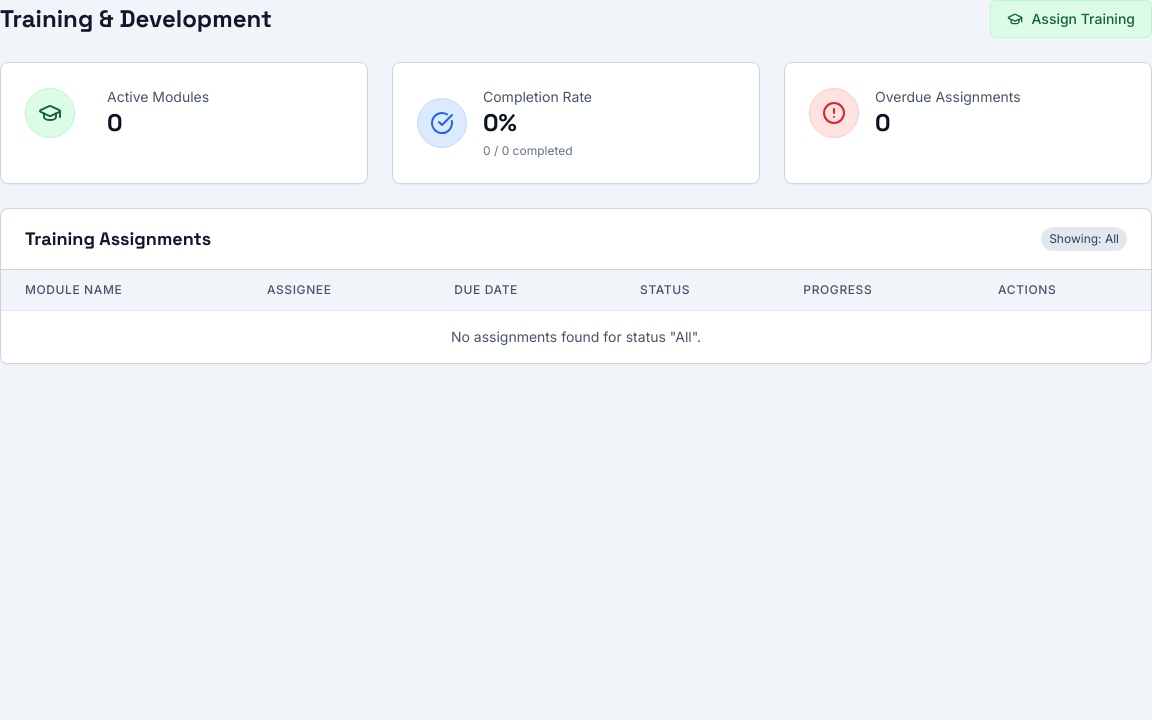
Scenario: Training page › renders and opens assign modal and template modal
Expected: the heading "Training & Development" is shown, [0, 3, 272, 35]
What coordinates should you click on to do the following:
click the button "Assign Training"
I would click on:
 (1071, 19)
Its box is [990, 0, 1151, 38].
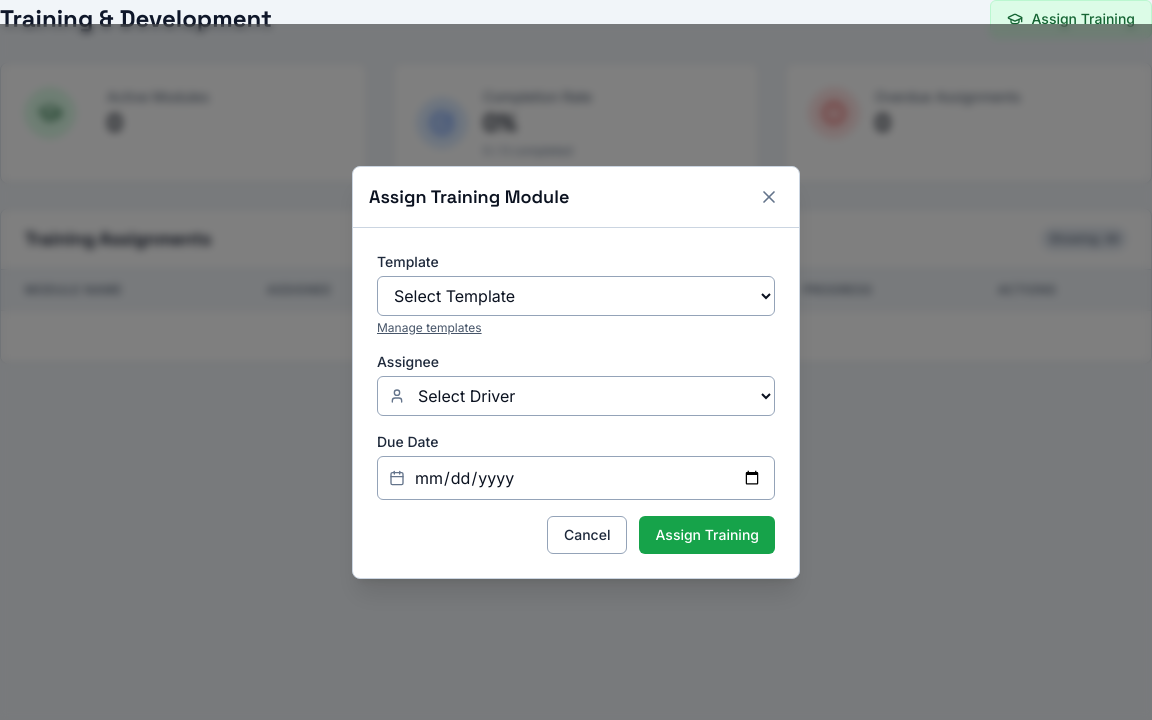
Expected: the heading "Assign Training Module" is shown, [369, 182, 569, 210]
Expected: the button "Manage templates" is shown
What coordinates should you click on to do the following:
click the button "Manage templates"
I would click on:
 (429, 328)
Its box is [377, 320, 482, 336].
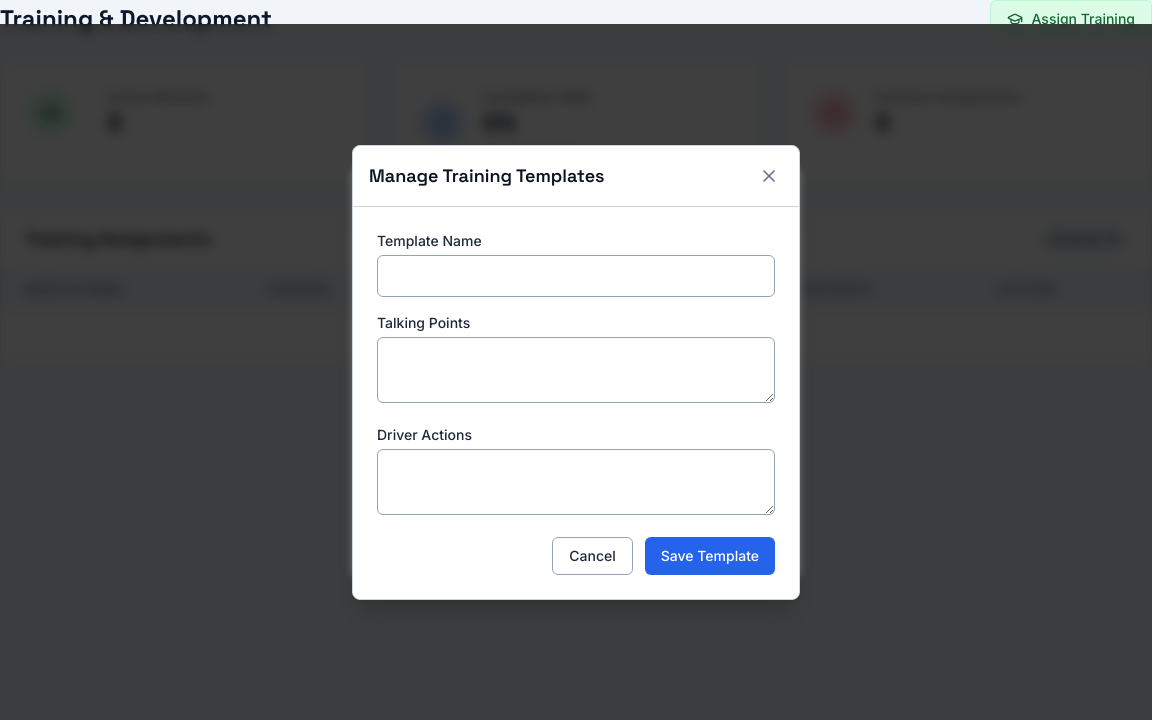
Expected: the heading "Manage Training Templates" is shown, [369, 162, 605, 190]
